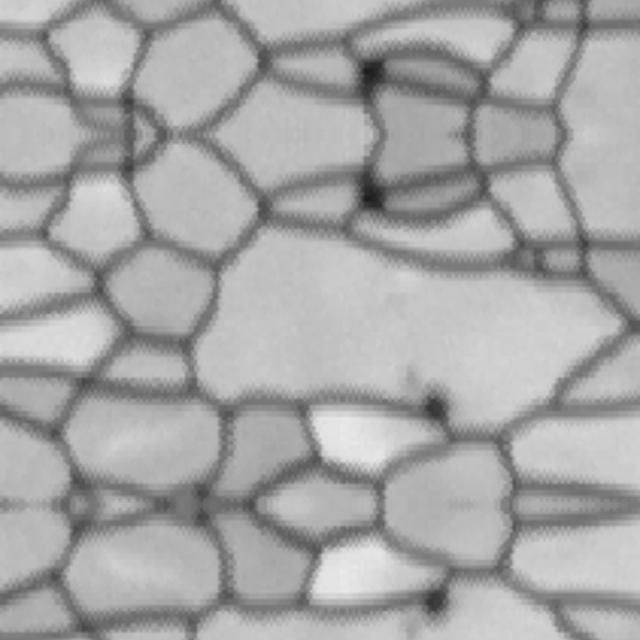good_void: (393, 358, 459, 428), (393, 580, 459, 640), (348, 162, 395, 214), (348, 54, 395, 106), (530, 241, 551, 274), (530, 0, 551, 27)
